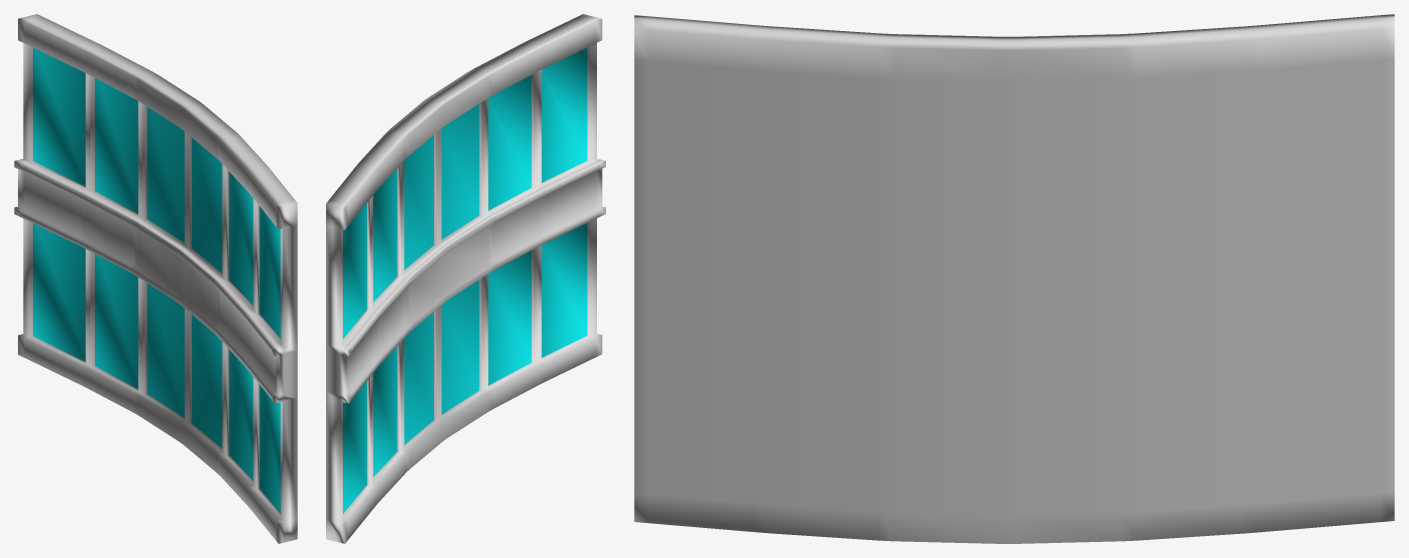
Rendered from window.fbx.
3 renders of one model, left to right at view 1: azimuth 30°, elevation 25°; view 2: azimuth 150°, elevation 25°; view 3: azimuth 270°, elevation 25°, orthographic. The views are drawn at different scales.
Parts seen in each view (by area): view 1: Cube; view 2: Cube; view 3: Cube.
Part boxes in pixels (x1,y1,x2,y2): Cube: (14, 14, 297, 543); Cube: (326, 14, 605, 543); Cube: (634, 14, 1394, 543).
Bounding box in the file's own units: 195 × 1135 × 1586.
